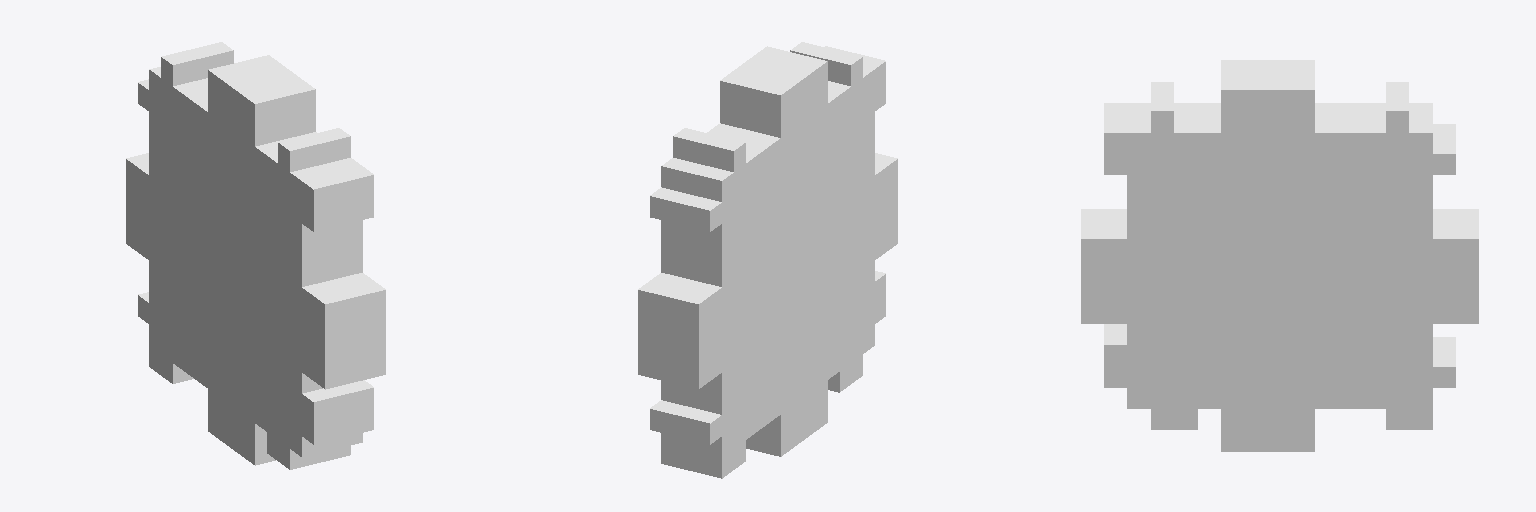
The model's file is lvl1-23.obj.
The picture shows the model from 3 angles: view 1: azimuth 30°, elevation 25°; view 2: azimuth 150°, elevation 25°; view 3: azimuth 270°, elevation 25°; orthographic projection.
Parts seen in each view (by area): view 1: object 1; view 2: object 1; view 3: object 1.
Boxes of the visible parts, <box> form: object 1: <box>126,42,385,469</box>; object 1: <box>638,42,897,478</box>; object 1: <box>1081,60,1478,451</box>.
Bounding box in the file's own units: 0.3 × 1.7 × 1.7.